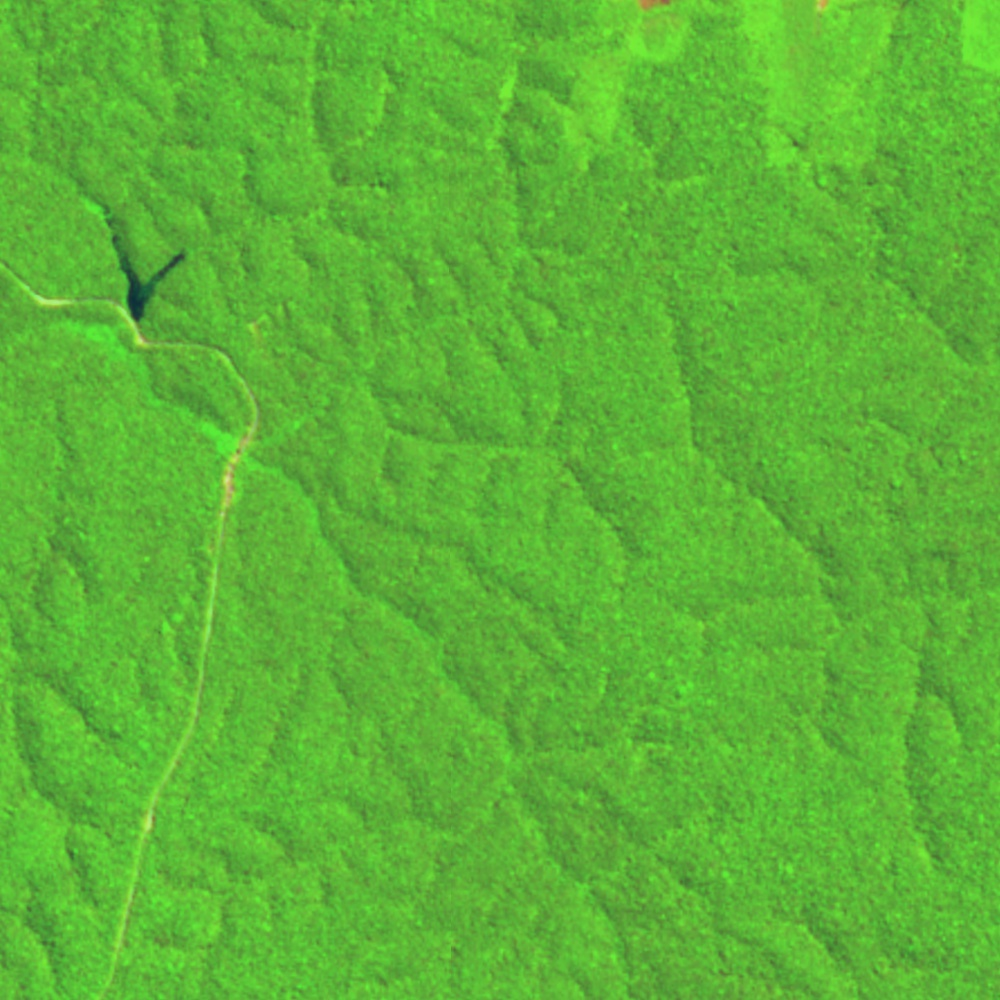legal: (68, 178, 189, 326), (217, 431, 251, 509), (819, 1, 835, 27), (633, 1, 674, 10)
